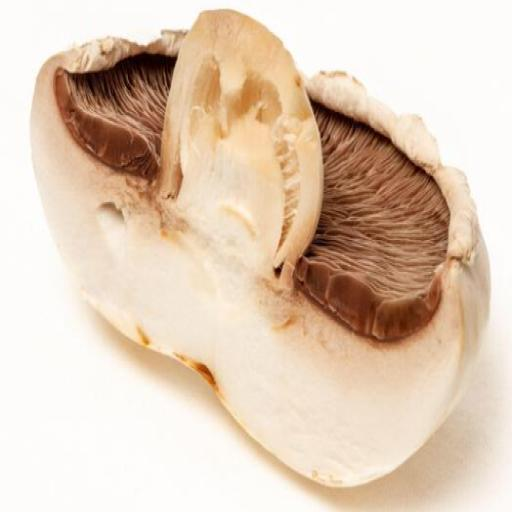mushroom: (29, 6, 493, 490)
